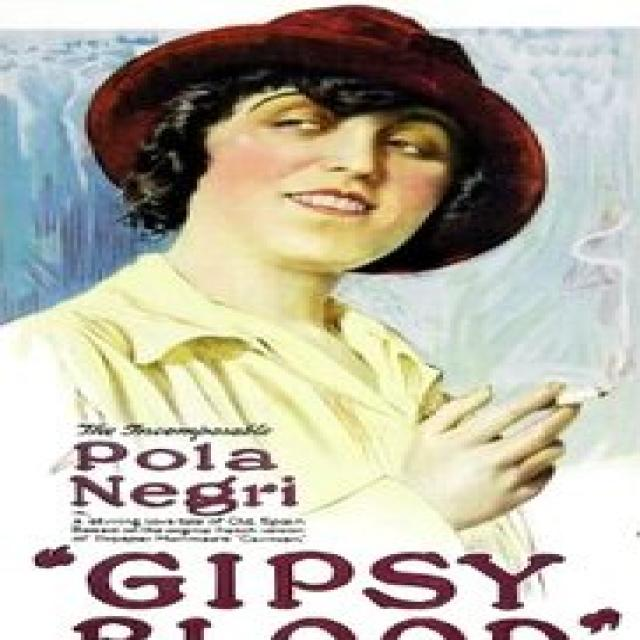movie-judul: (34, 542, 633, 640)
picture: (0, 5, 598, 537)
